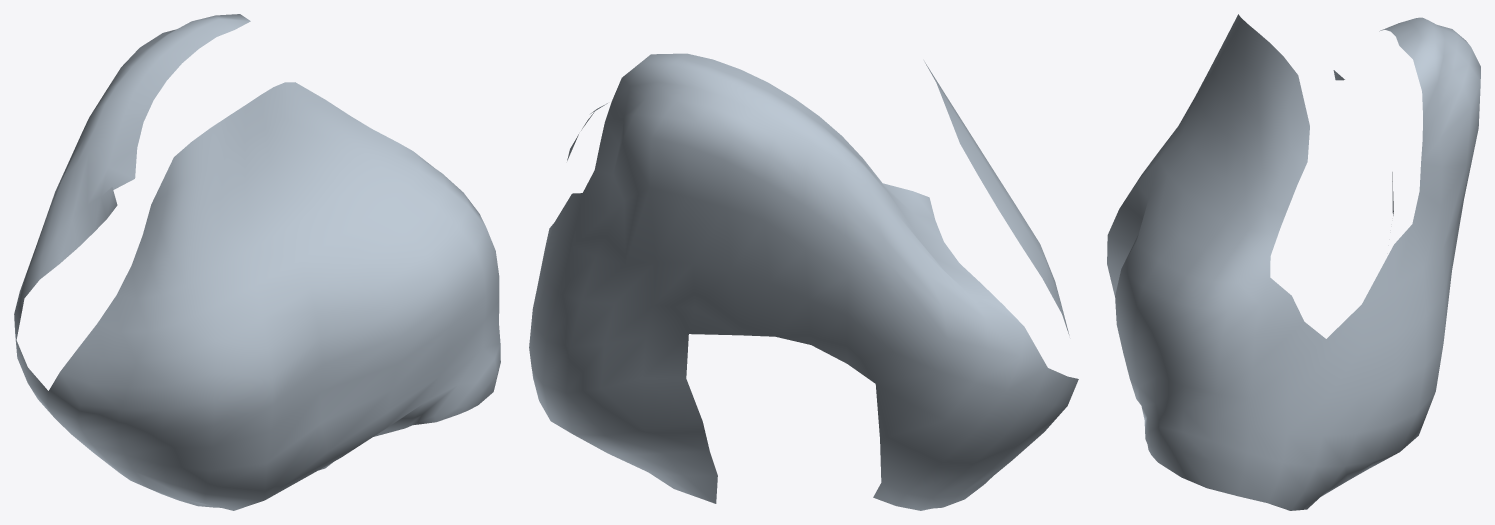
The model's file is articular-capsule-of-elbow-joint-l.glb.
The picture shows the model from 3 angles, left to right: view 1: azimuth 30°, elevation 25°; view 2: azimuth 150°, elevation 25°; view 3: azimuth 270°, elevation 25°; orthographic projection. The views are drawn at different scales.
Visible parts, largest first — view 1: Articular capsule of elbow joint.l; view 2: Articular capsule of elbow joint.l; view 3: Articular capsule of elbow joint.l.
Part boxes in pixels (left/top/right/bottom): Articular capsule of elbow joint.l: left=14, top=14, right=500, bottom=510; Articular capsule of elbow joint.l: left=529, top=53, right=1078, bottom=510; Articular capsule of elbow joint.l: left=1107, top=14, right=1480, bottom=510.
Bounding box in the file's own units: 0.0611 × 0.0532 × 0.0423.
